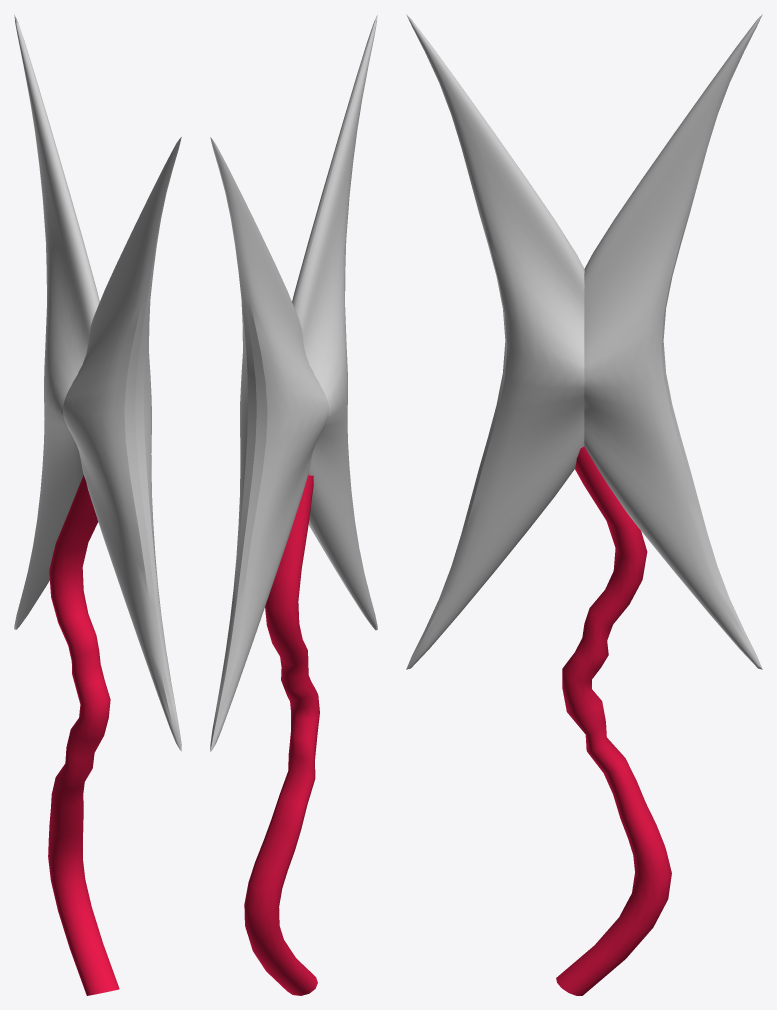
Rendered from Hacha.fbx.
The picture shows the model from 3 angles, left to right: view 1: azimuth 30°, elevation 25°; view 2: azimuth 150°, elevation 25°; view 3: azimuth 270°, elevation 25°; orthographic projection. The views are drawn at different scales.
Parts seen in each view (by area): view 1: Cube; view 2: Cube; view 3: Cube.
Part boxes in pixels (left/top/right/bottom): Cube: left=14, top=14, right=181, bottom=995; Cube: left=210, top=15, right=377, bottom=995; Cube: left=406, top=14, right=762, bottom=995.
Size of the model in its own units: 10.6 by 130 by 42.91.
